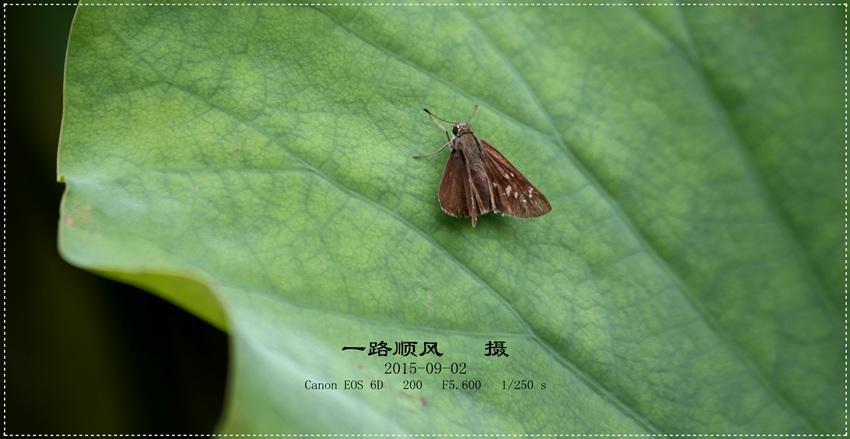Hesperiidae: (413, 108, 555, 235)
